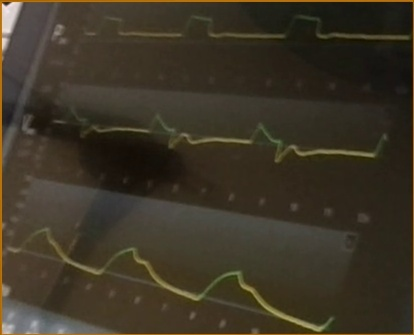Premature_cycling Flow: (55, 100, 387, 167)
Premature_cycling Volume: (9, 225, 335, 331)
